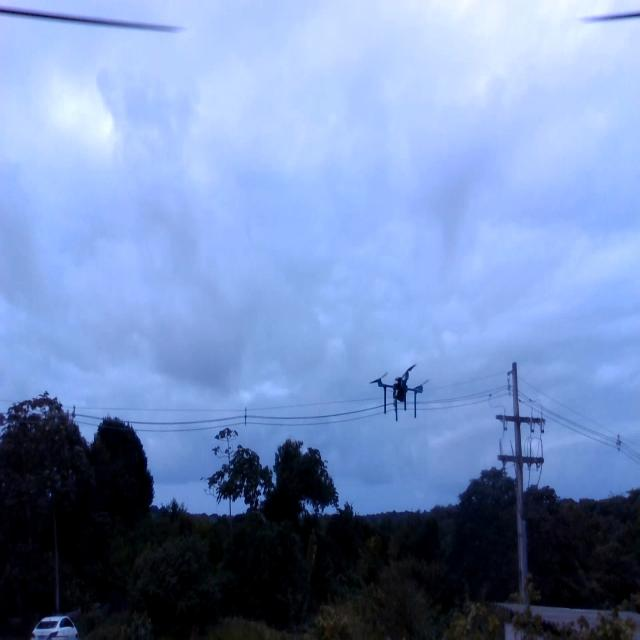-uav-: (360, 356, 433, 425)
